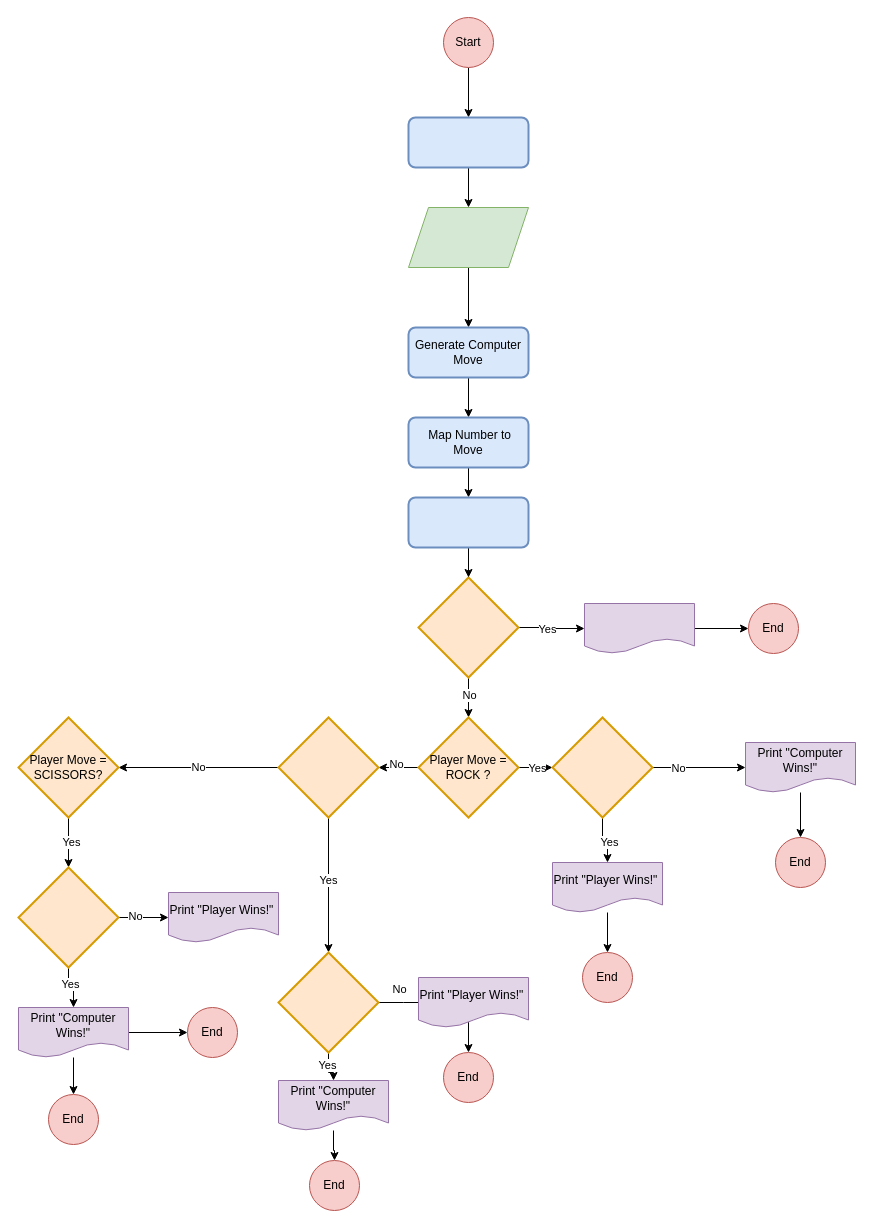
The diagram is 873 pixels wide and 1228 high, and some of its shapes have lost their labels. Here are the shapes that lost their labels. From the top down, the centre of each, then its label:
pixel 468 142: Prompt Player to Enter Move (ROCK, PAPER, SCISSORS)
pixel 468 237: Input Player Move
pixel 468 522: Compare Moves
pixel 468 627: Moves Equal?
pixel 639 628: Print "It's a Tie!"
pixel 328 767: Player Move = PAPER?
pixel 602 767: Computer Move = PAPER
pixel 68 917: Computer Move = ROCK ?
pixel 328 1002: Computer Move = SCISSORS?
